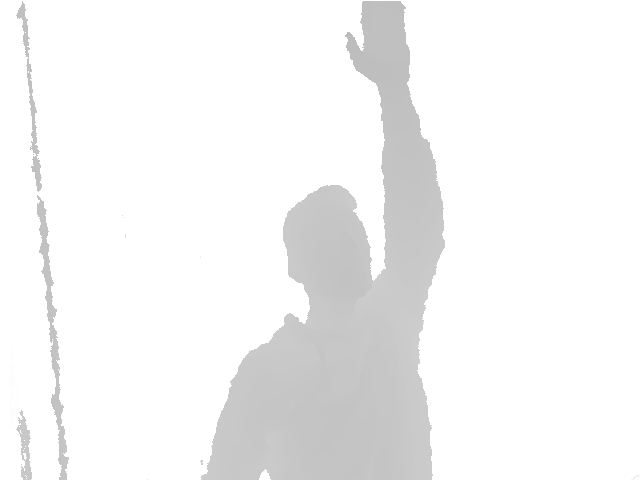hand: (345, 1, 411, 88)
head: (282, 184, 375, 303)
person: (199, 1, 445, 480)
